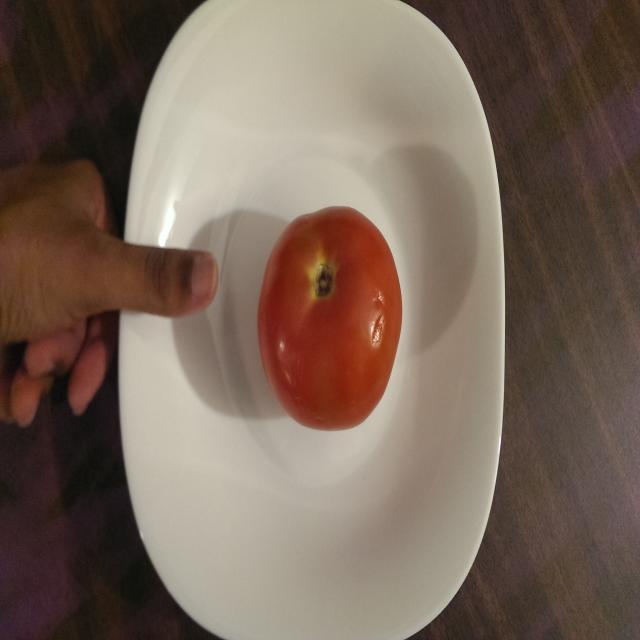tomato: (256, 205, 402, 432)
